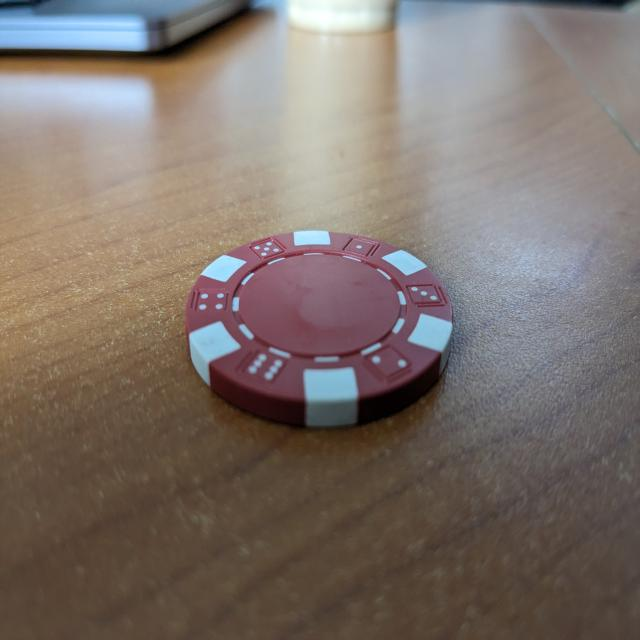red chip: (185, 230, 454, 431)
